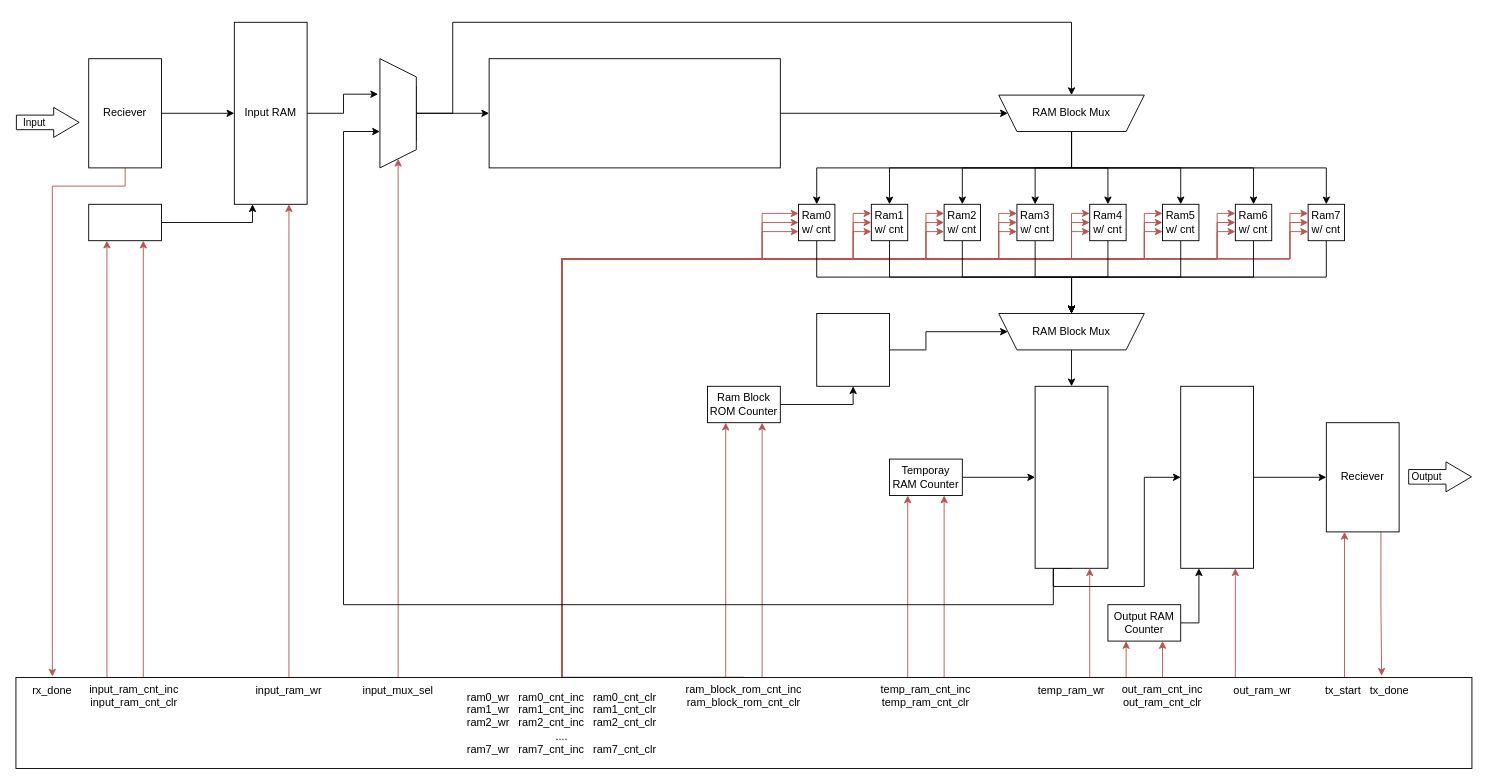
Some shapes in this 1488 by 784 pixel diagram are drawn without their labels. Here are the shapes that lost their labels. From the top down, the box of each, then its label:
(379, 58, 416, 168): Input Mux
(488, 58, 780, 168): Shift Block
(88, 203, 162, 241): Input RAM Counter
(816, 313, 890, 386): RAM Block ROM
(1034, 385, 1108, 568): Temporary RAM
(1180, 385, 1254, 568): Output RAM
